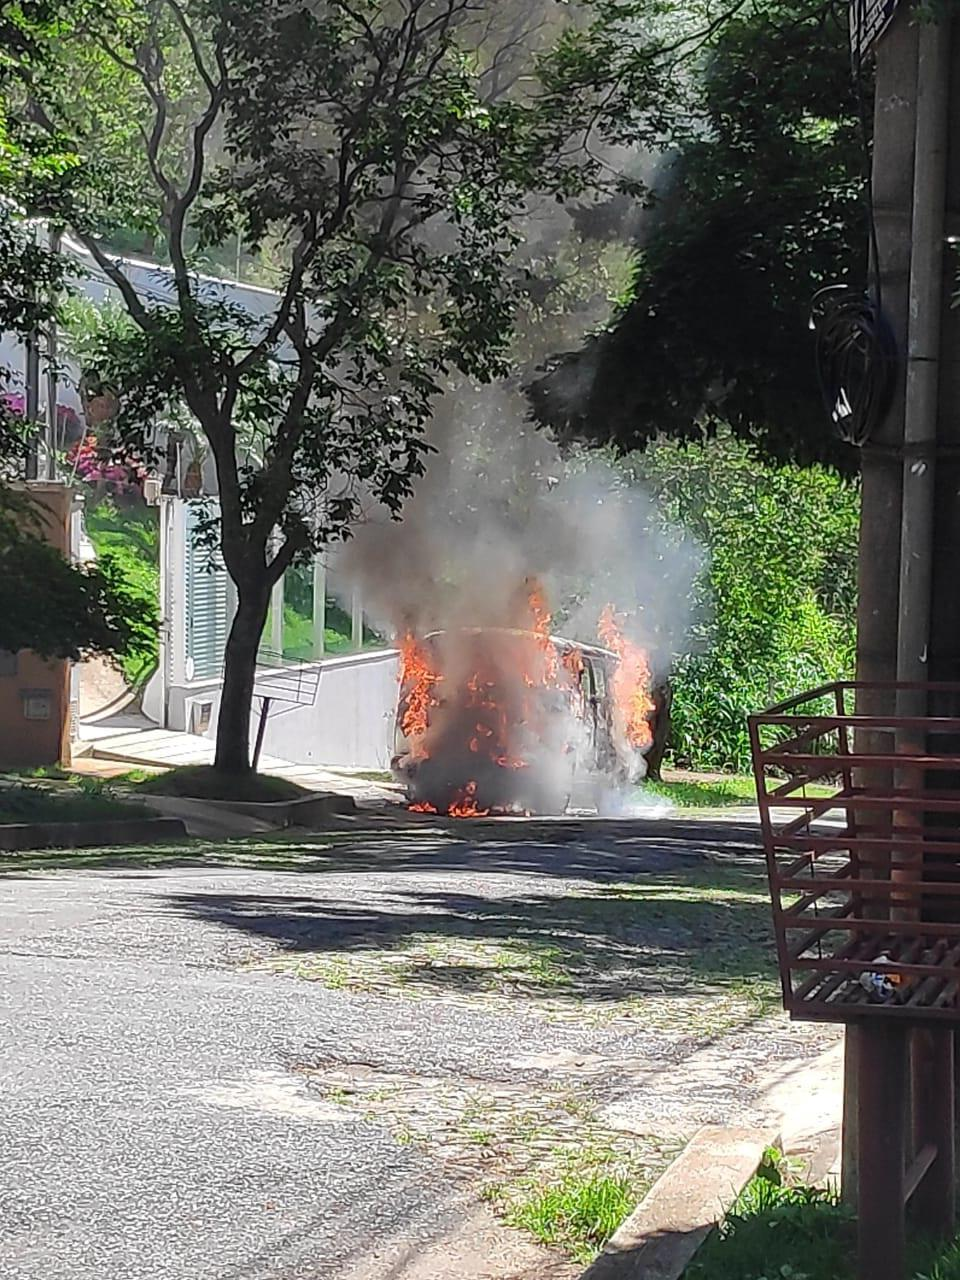Fire: (596, 606, 659, 751), (523, 570, 580, 692), (465, 665, 527, 768), (389, 641, 442, 763), (448, 778, 484, 817), (406, 799, 438, 813)
